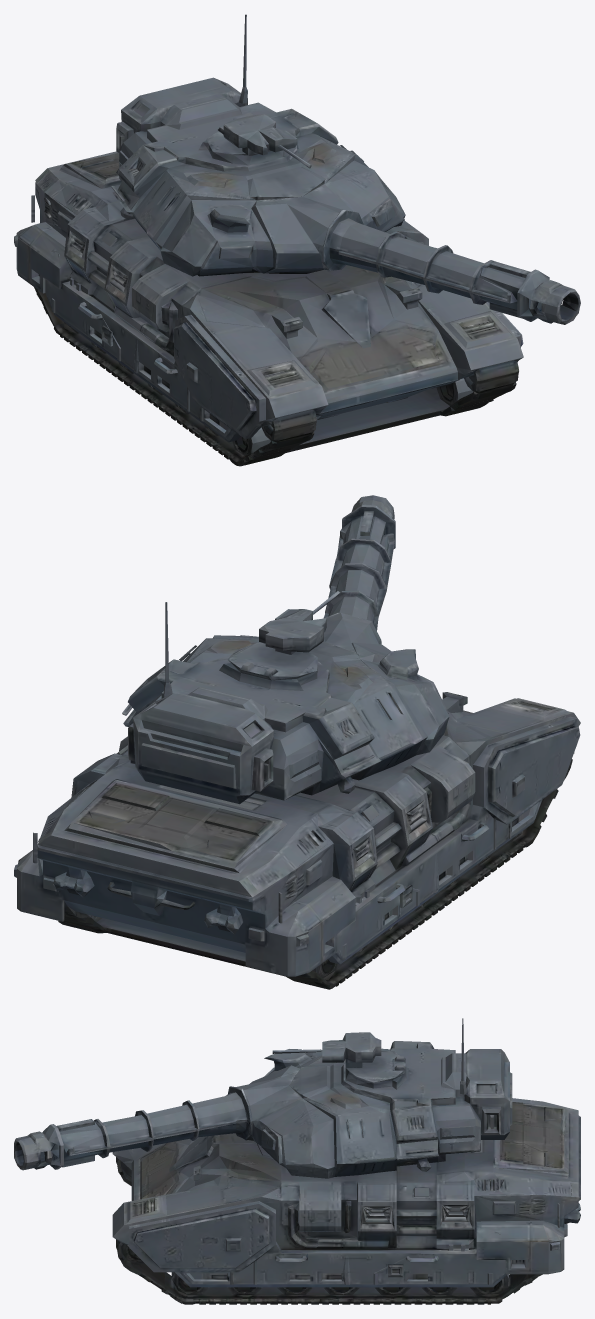
Rendered from devastator_LOD0.glb.
The picture shows the model from 3 angles, top to bottom: view 1: azimuth 30°, elevation 25°; view 2: azimuth 150°, elevation 25°; view 3: azimuth 270°, elevation 25°; orthographic projection. The views are drawn at different scales.
Parts seen in each view (by area): view 1: devastator_LOD0; view 2: devastator_LOD0; view 3: devastator_LOD0.
Boxes of the visible parts, x1,y1,x2,y2 form: devastator_LOD0: (14,14,580,466); devastator_LOD0: (14,495,580,989); devastator_LOD0: (14,1018,580,1304).
Size of the model in its own units: 0.4951 by 0.4951 by 1.
1 material, 1 textured.
